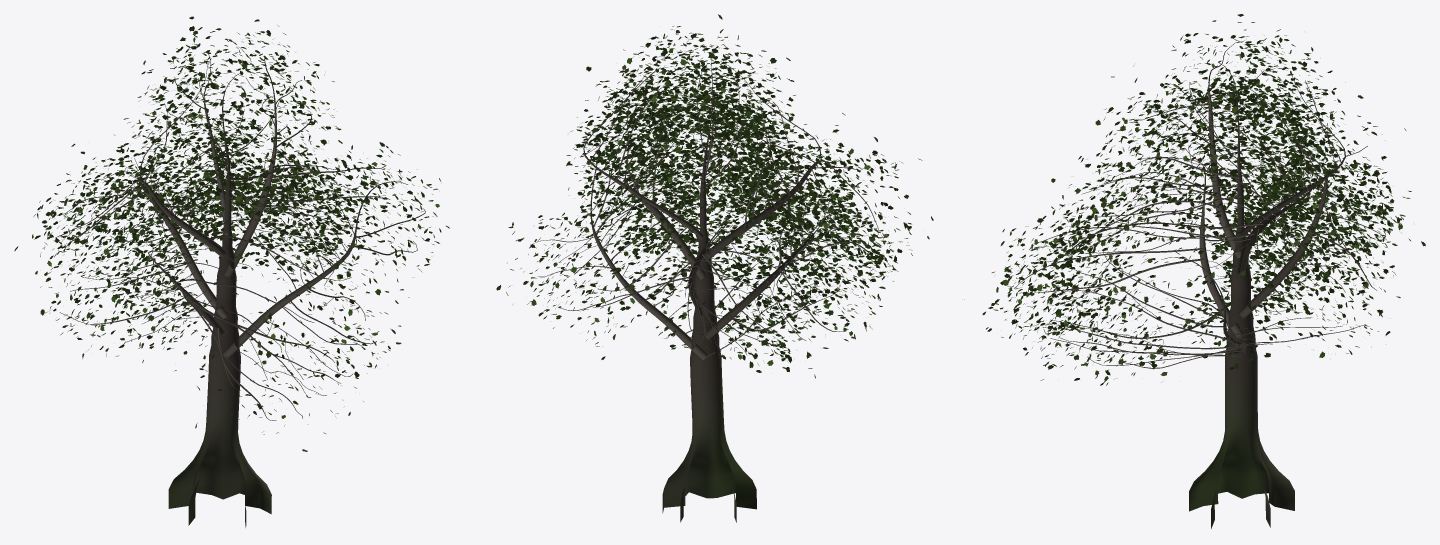
The model's file is SM_Tree_sycamore_3.glb.
3 views of the same model, side by side, from view 1: azimuth 30°, elevation 25°; view 2: azimuth 150°, elevation 25°; view 3: azimuth 270°, elevation 25° (orthographic). The views are drawn at different scales.
Parts seen in each view (by area): view 1: SM_Tree_sycamore_3; view 2: SM_Tree_sycamore_3; view 3: SM_Tree_sycamore_3.
Part boxes in pixels (<box>): SM_Tree_sycamore_3: <box>14,16,449,527</box>; SM_Tree_sycamore_3: <box>496,14,933,522</box>; SM_Tree_sycamore_3: <box>964,14,1425,528</box>.
Bounding box in the file's own units: 12.13 × 14.74 × 12.42.
